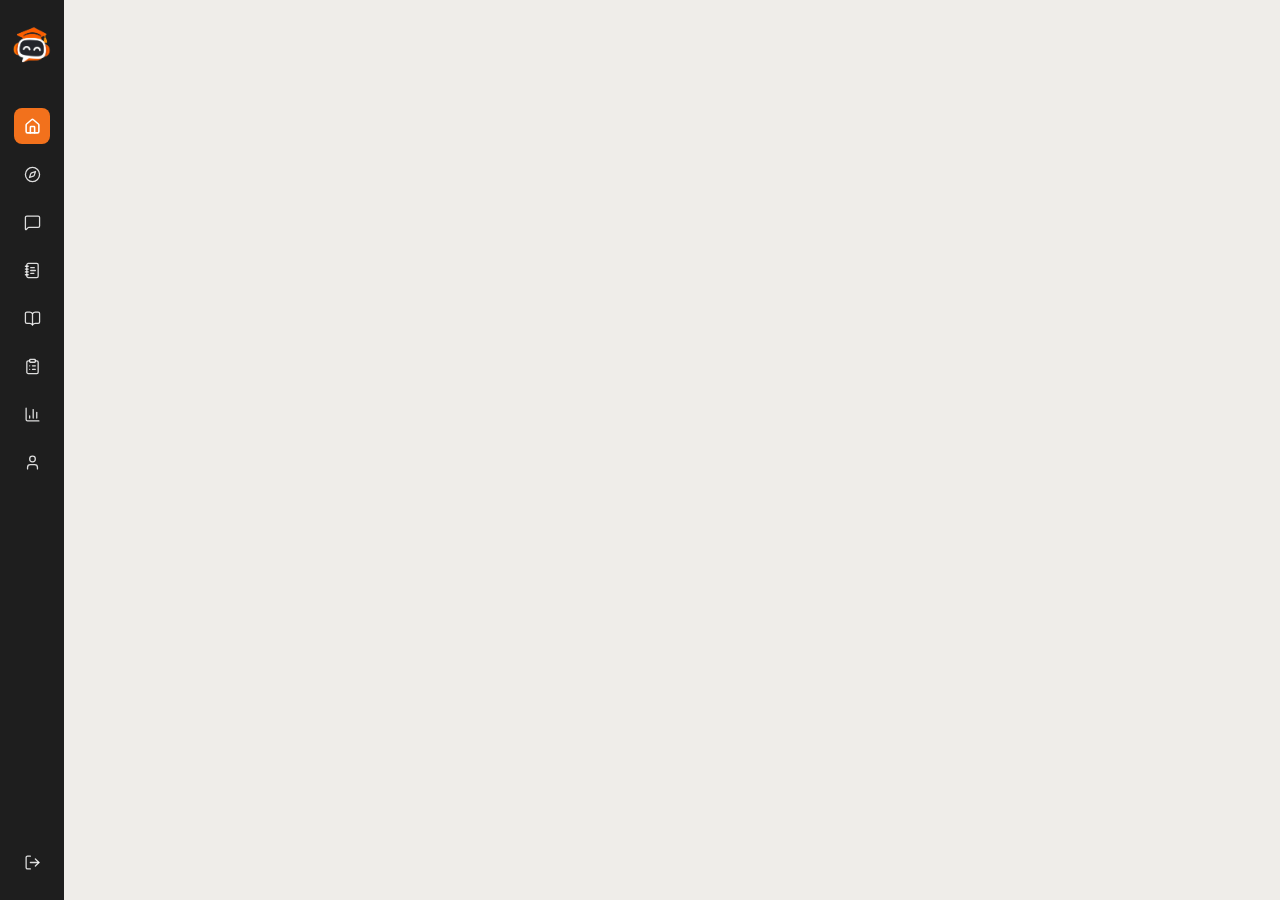
Test case: Sidenav (navegação lateral) › cancelar no modal fecha o diálogo e mantém a sessão
Click the button named "Sair da conta".
click(32, 862)  # box top-left (14, 844), bottom-right (50, 880)
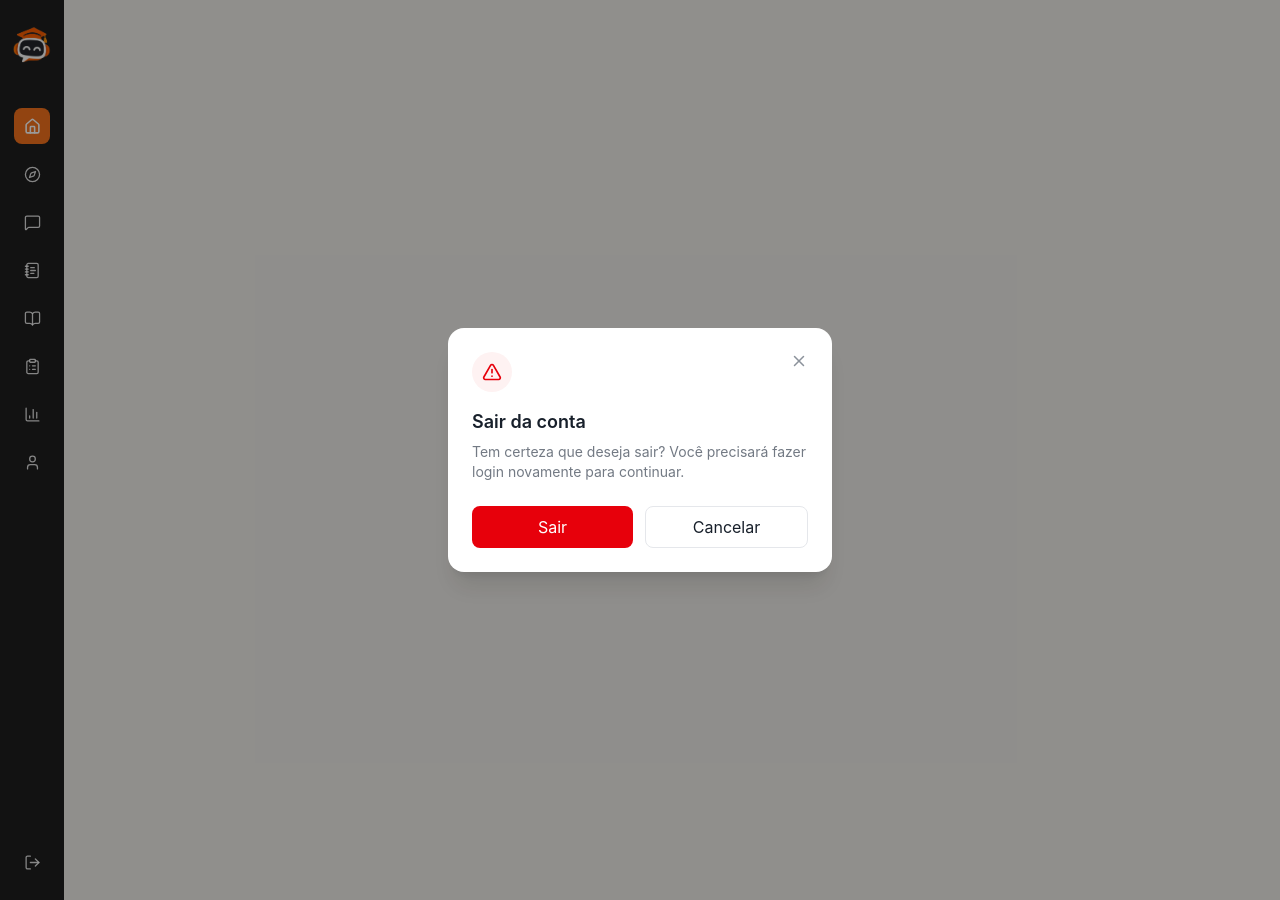
Click the button "Cancelar".
click(726, 527)  # box top-left (645, 506), bottom-right (808, 548)
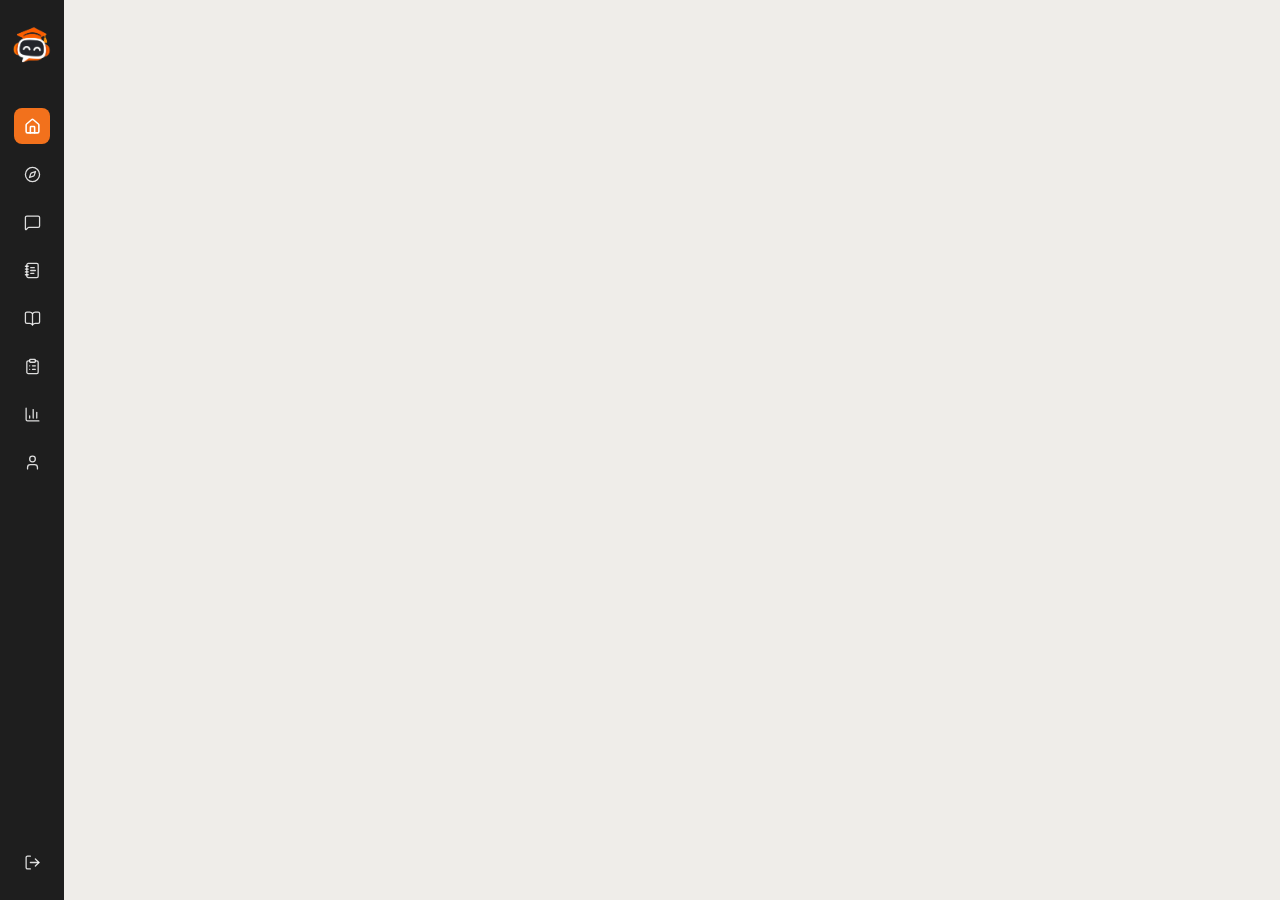
Result: the text "Tem certeza que deseja sair" is gone
